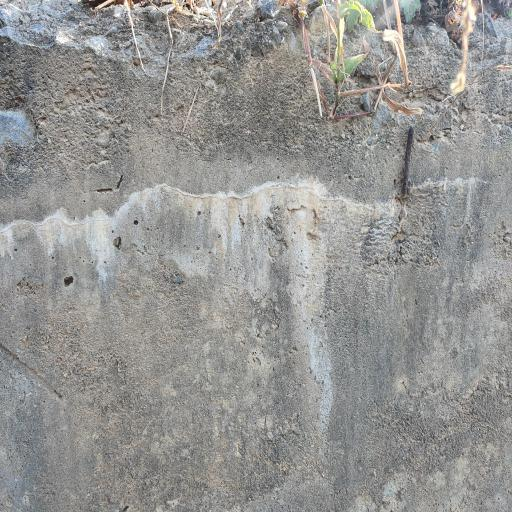exposed_rebar: (401, 126, 414, 197)
